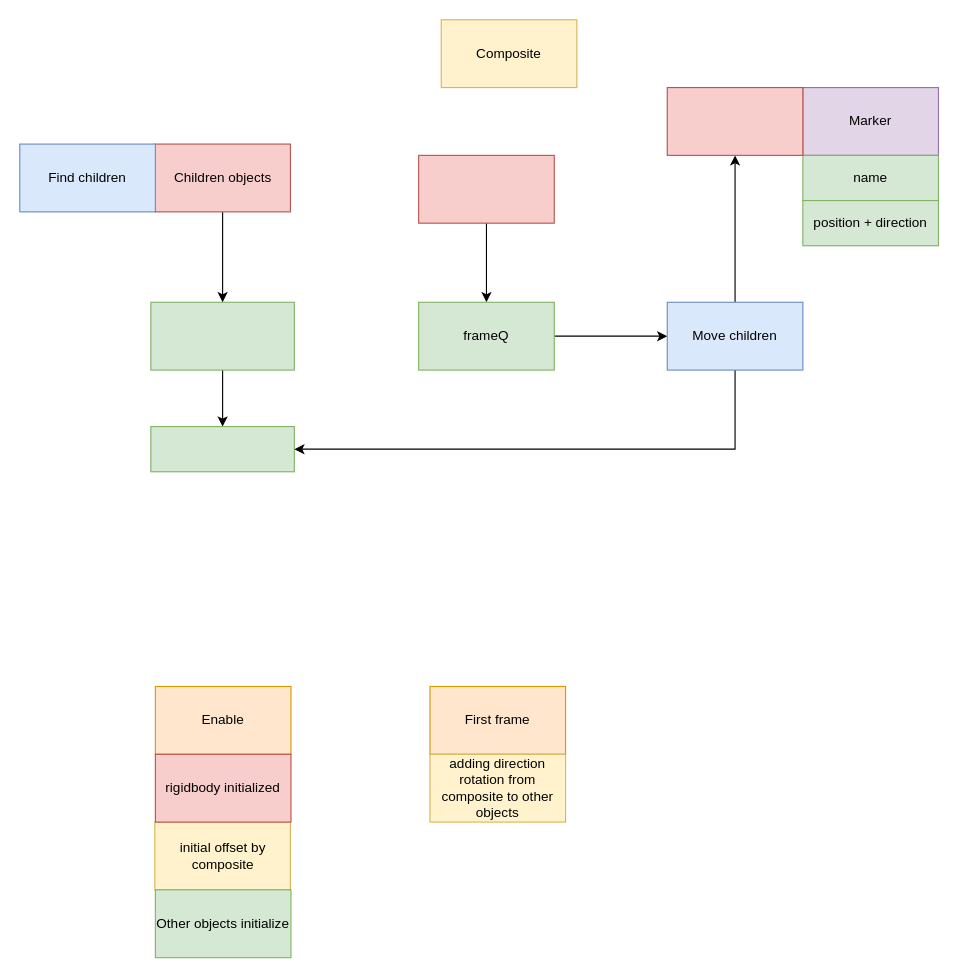
The diagram is 958 pixels wide and 977 high, and some of its shapes have lost their labels. Here are the shapes that lost their labels. From the top down, the centre of each, then its label:
the point at 734,120: Dict of markers
the point at 486,188: rigidbody
the point at 222,335: circles, gons, shapes
the point at 222,448: position
